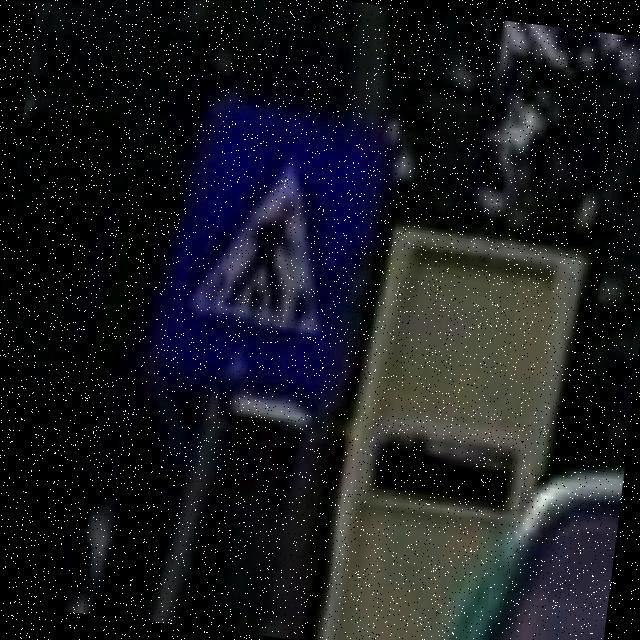Przejscie dla pieszych: (164, 102, 372, 408)
